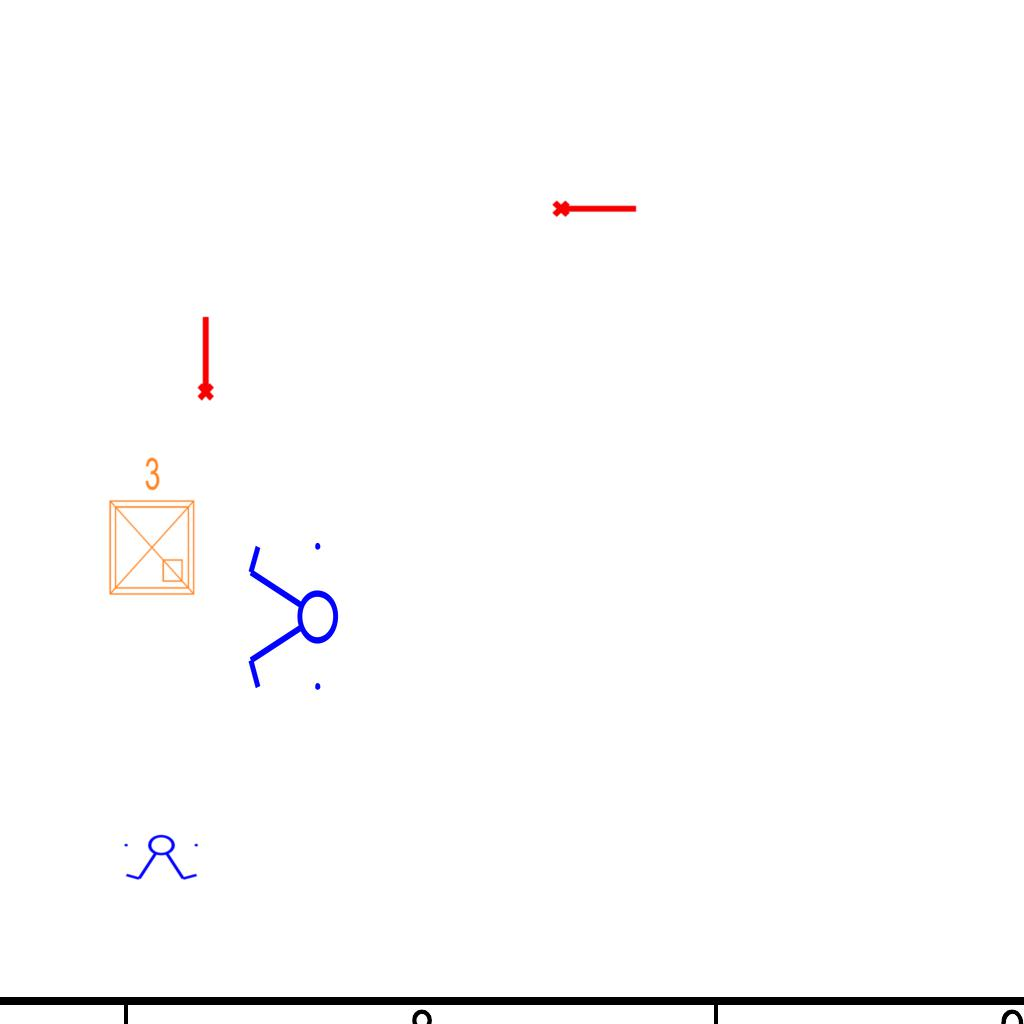ASR_Ansaugoeffnung: (193, 314, 216, 402), (551, 196, 639, 219)
Einbaudownlights_LED_Konferenzraeume: (98, 452, 202, 602)
Serienschalter: (244, 534, 340, 702), (120, 834, 204, 882)
